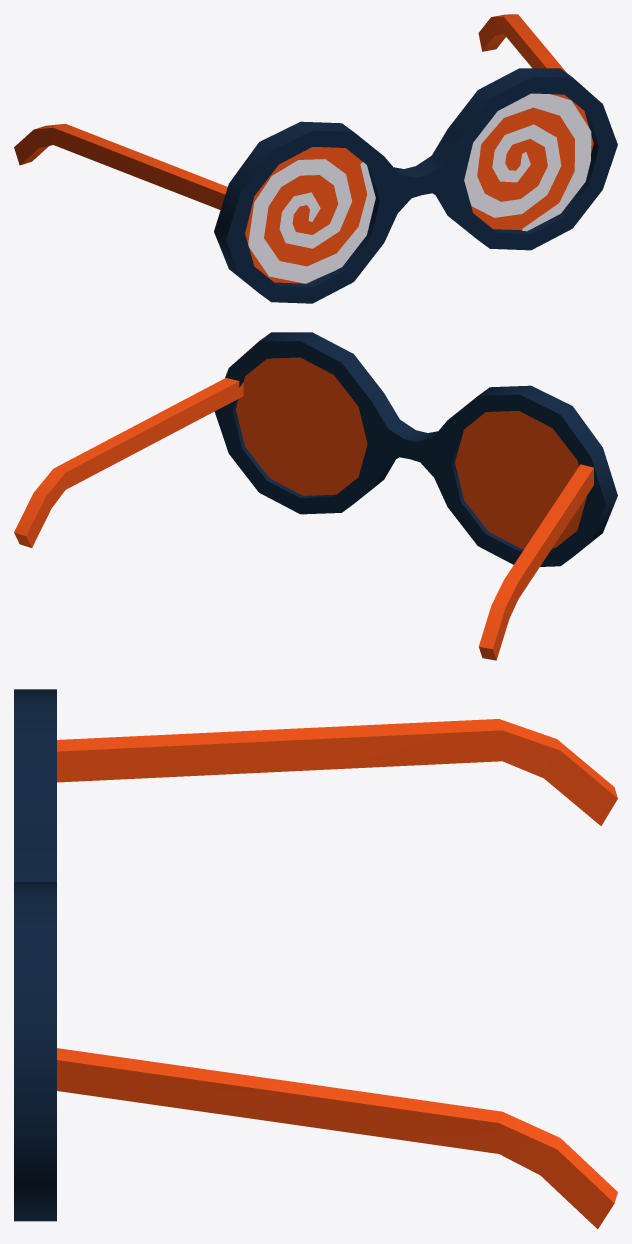
The model's file is Hypnotic_glasses.fbx.
The picture shows the model from 3 angles, top to bottom: view 1: azimuth 30°, elevation 25°; view 2: azimuth 150°, elevation 25°; view 3: azimuth 270°, elevation 25°; orthographic projection. The views are drawn at different scales.
Parts seen in each view (by area): view 1: Hypnotic_glasses.c, Glasses_stick_12.001, Glasses_stick_11.001; view 2: Hypnotic_glasses.c, Glasses_stick_11.001, Glasses_stick_12.001; view 3: Glasses_stick_11.001, Glasses_stick_12.001, Hypnotic_glasses.c.
Boxes of the visible parts, <box> form: Hypnotic_glasses.c: <box>214,68,617,303</box>; Glasses_stick_12.001: <box>14,123,227,209</box>; Glasses_stick_11.001: <box>478,14,566,72</box>; Hypnotic_glasses.c: <box>214,332,617,566</box>; Glasses_stick_11.001: <box>14,378,243,547</box>; Glasses_stick_12.001: <box>478,464,593,660</box>; Glasses_stick_11.001: <box>57,1048,617,1229</box>; Glasses_stick_12.001: <box>57,719,617,825</box>; Hypnotic_glasses.c: <box>14,689,56,1221</box>.
Bounding box in the file's own units: 0.801 × 0.2769 × 0.4911.
